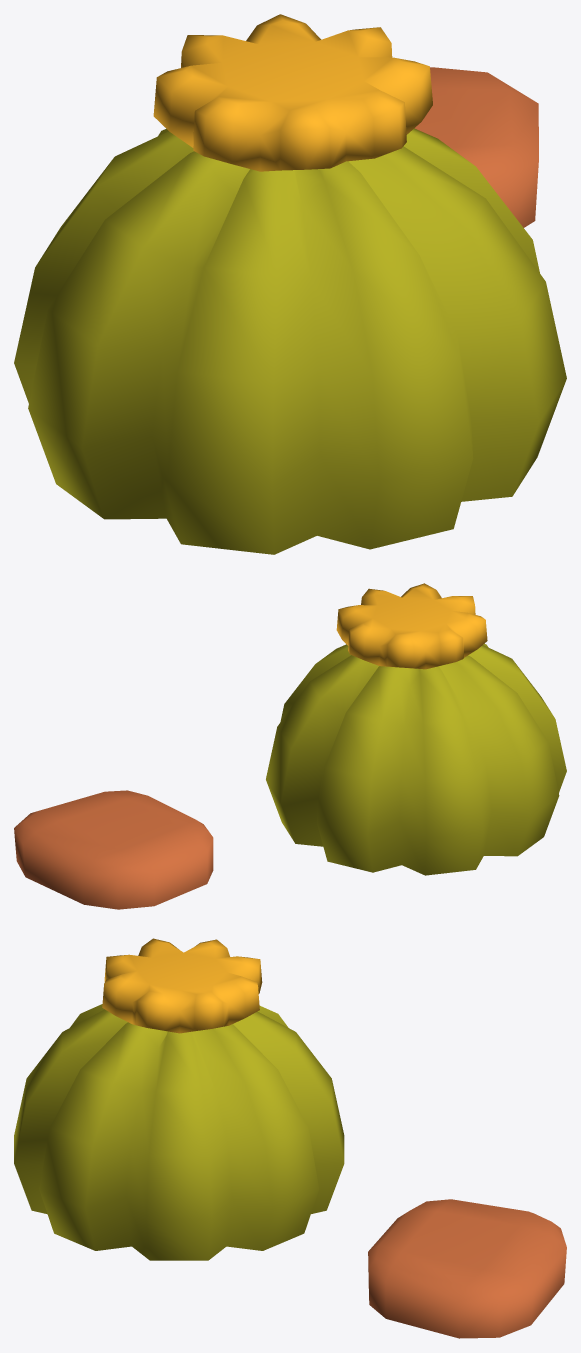
The model's file is cactus_small.obj.
3 renders of one model, top to bottom at view 1: azimuth 30°, elevation 25°; view 2: azimuth 150°, elevation 25°; view 3: azimuth 270°, elevation 25°, orthographic. The views are drawn at different scales.
Parts seen in each view (by area): view 1: cactus_small; view 2: cactus_small; view 3: cactus_small.
Boxes of the visible parts, bbox=[...] form: cactus_small: bbox=[14, 14, 566, 554]; cactus_small: bbox=[14, 583, 566, 909]; cactus_small: bbox=[14, 938, 566, 1338].
Size of the model in its own units: 1.24 by 0.6352 by 1.37.
